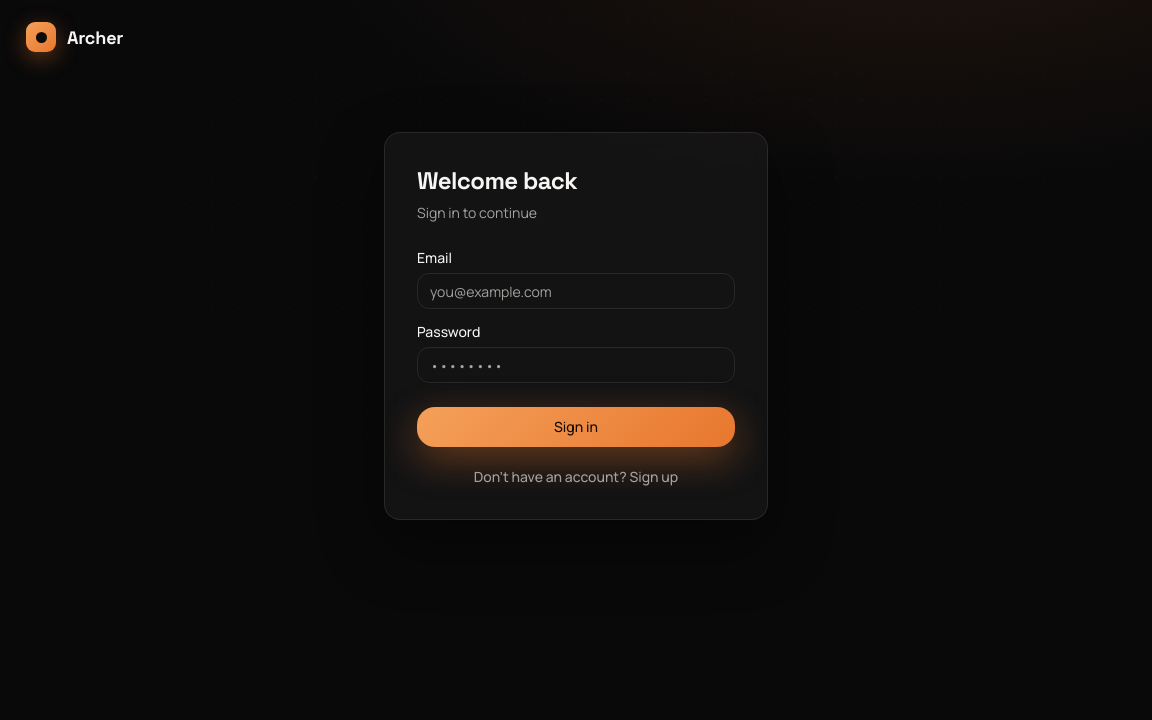
Auth — sign up / sign in / resume › rejects empty fields with an inline validation error
The image size is (1152, 720).
Click the submit button. click: (576, 427)
box: [417,407,735,447]
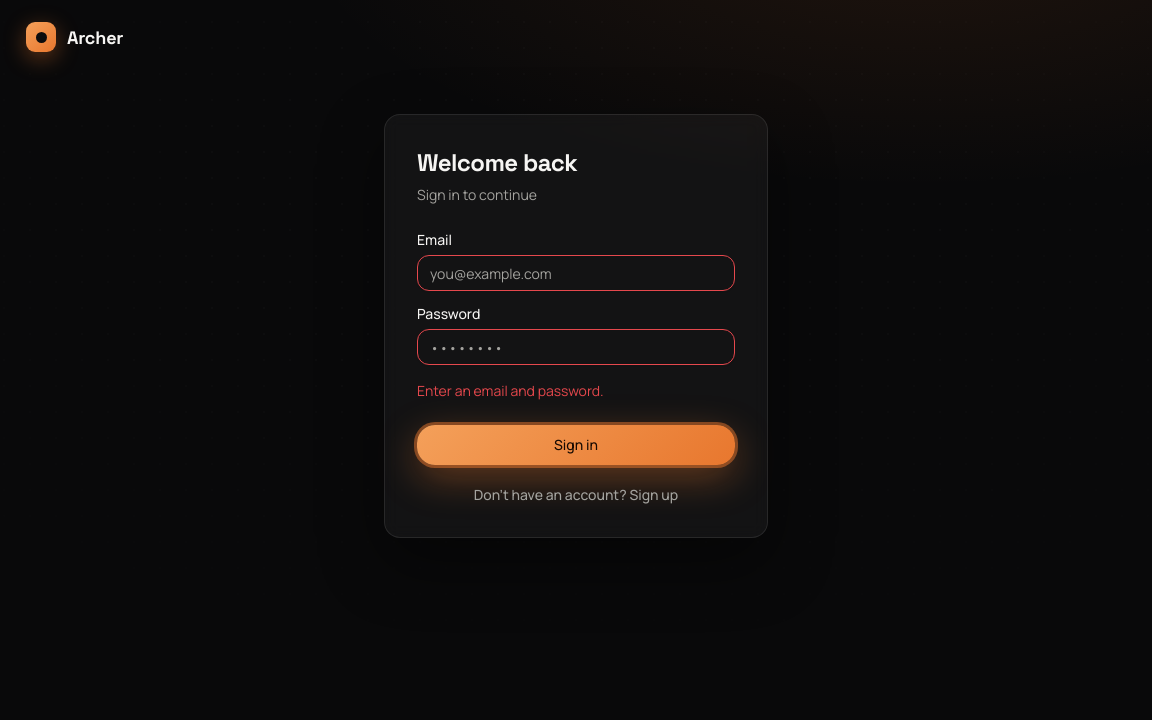
expect the text "Enter an email and password." is shown: met, box [417,381,604,400]
